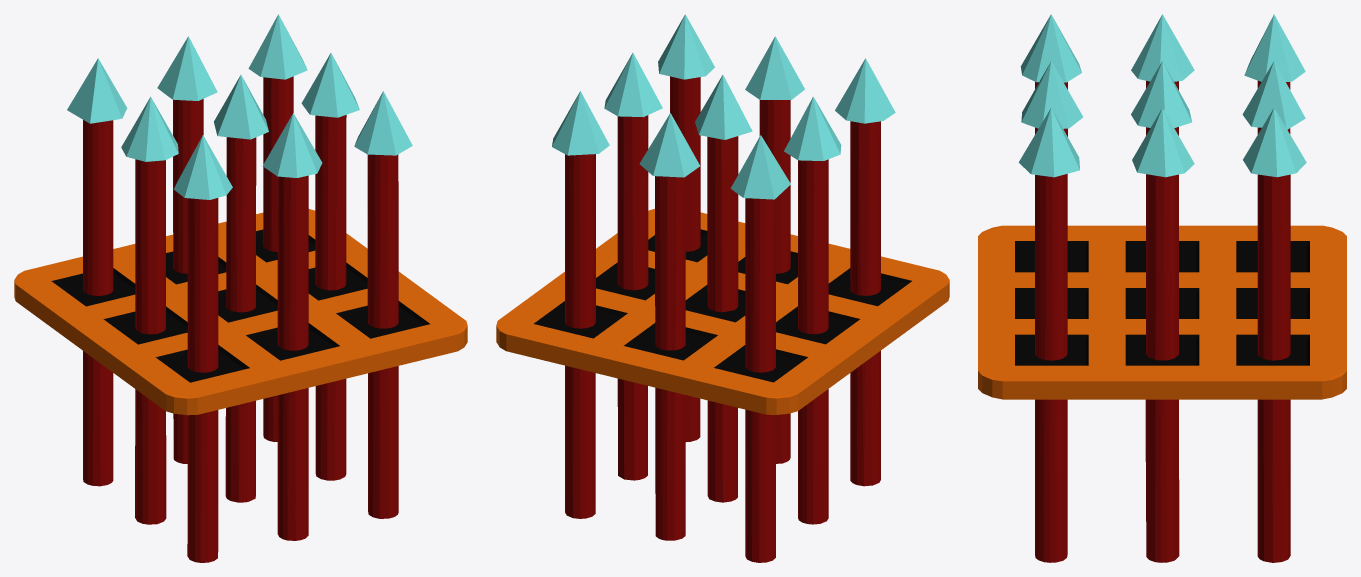
Rendered from arrowObstacle.fbx.
3 renders of one model, left to right at view 1: azimuth 30°, elevation 25°; view 2: azimuth 150°, elevation 25°; view 3: azimuth 270°, elevation 25°, orthographic. The views are drawn at different scales.
Visible parts, largest first — view 1: Cylinder.014, Cube, Cone.007, Cube.001; view 2: Cylinder.014, Cube, Cone.007, Cube.001; view 3: Cube, Cylinder.014, Cone.007, Cube.001.
Boxes of the visible parts, x1,y1,x2,y2 form: Cylinder.014: [83, 76, 398, 562]; Cube: [14, 209, 467, 415]; Cone.007: [67, 14, 412, 199]; Cube.001: [51, 229, 429, 382]; Cylinder.014: [565, 76, 880, 562]; Cube: [496, 209, 949, 414]; Cone.007: [552, 14, 895, 199]; Cube.001: [534, 229, 911, 382]; Cube: [978, 225, 1346, 399]; Cylinder.014: [1035, 81, 1290, 562]; Cone.007: [1018, 14, 1306, 177]; Cube.001: [1015, 241, 1309, 365].
Bounding box in the file's own units: 200 × 268 × 200.
